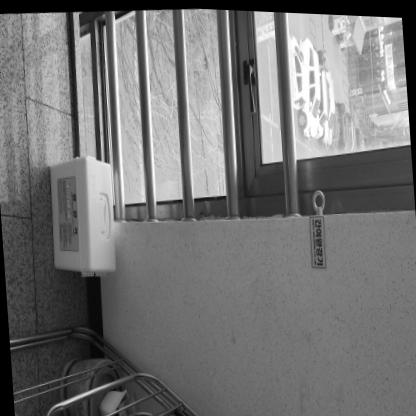DDL: (45, 152, 119, 274)
